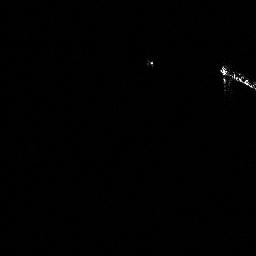ship: (216, 61, 256, 96)
